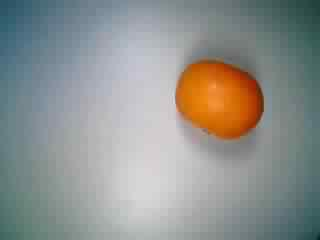orange: (166, 55, 267, 144)
